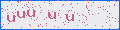u: (7, 15, 15, 23), (17, 11, 25, 19), (48, 12, 56, 20), (65, 14, 74, 21), (27, 10, 35, 17)
